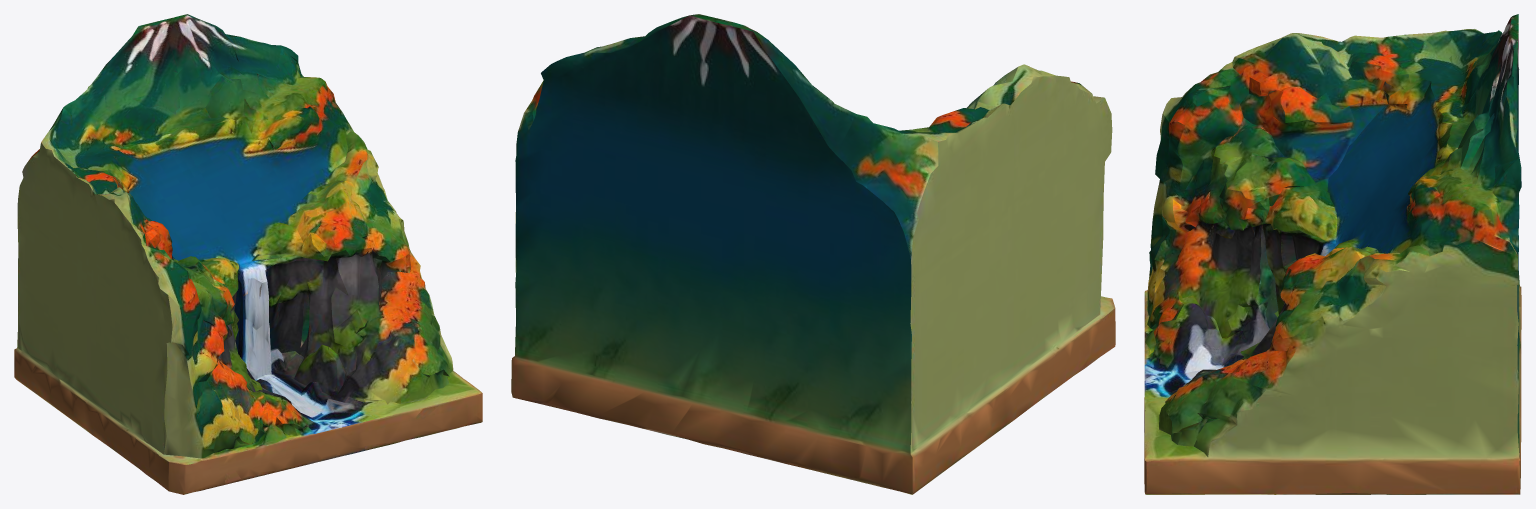
Rendered from lake-chuzenji.glb.
3 renders of one model, left to right at view 1: azimuth 30°, elevation 25°; view 2: azimuth 150°, elevation 25°; view 3: azimuth 270°, elevation 25°, orthographic. The views are drawn at different scales.
Parts seen in each view (by area): view 1: logan-textured.obj; view 2: logan-textured.obj; view 3: logan-textured.obj.
Part boxes in pixels (x1,y1,x2,y2): logan-textured.obj: (14,14,482,494); logan-textured.obj: (511,14,1115,494); logan-textured.obj: (1144,14,1521,494).
Bounding box in the file's own units: 0.9902 × 1 × 0.9037.
1 material, 1 textured.
